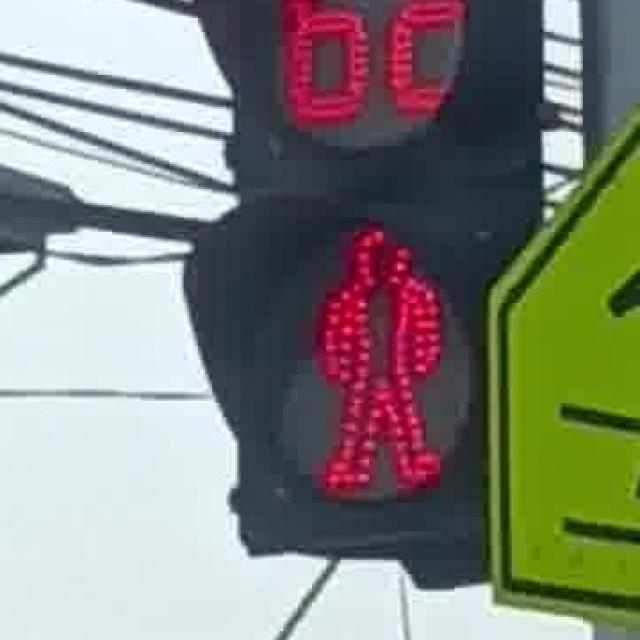red_light: (287, 219, 451, 492)
